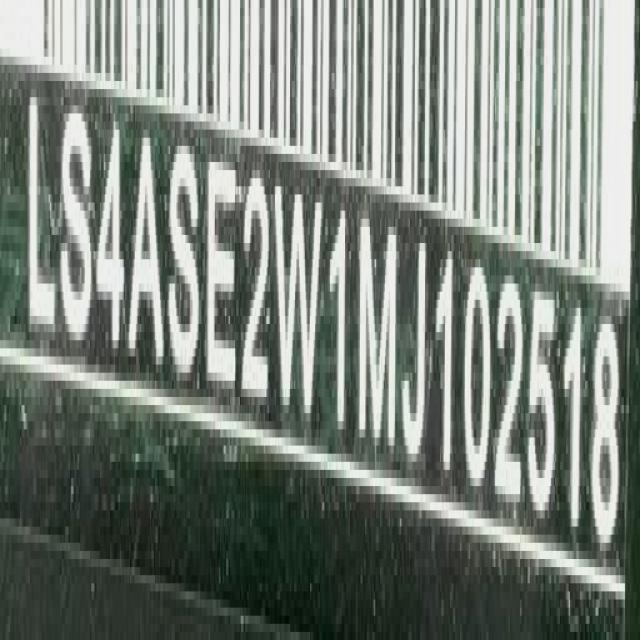0: (464, 239, 493, 505)
1: (434, 220, 458, 498), (328, 177, 351, 459), (562, 281, 583, 555)
2: (241, 158, 276, 426), (496, 258, 527, 528)
4: (98, 94, 128, 374)
5: (528, 265, 558, 540)
8: (594, 302, 626, 564)
A: (130, 116, 168, 384)
E: (204, 141, 238, 405)
J: (399, 204, 429, 483)
L: (25, 73, 57, 351)
M: (358, 192, 400, 476)
S: (169, 131, 207, 395), (57, 87, 93, 358)
W: (276, 159, 328, 449)
